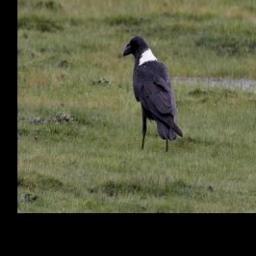Crow: (124, 34, 184, 150)
